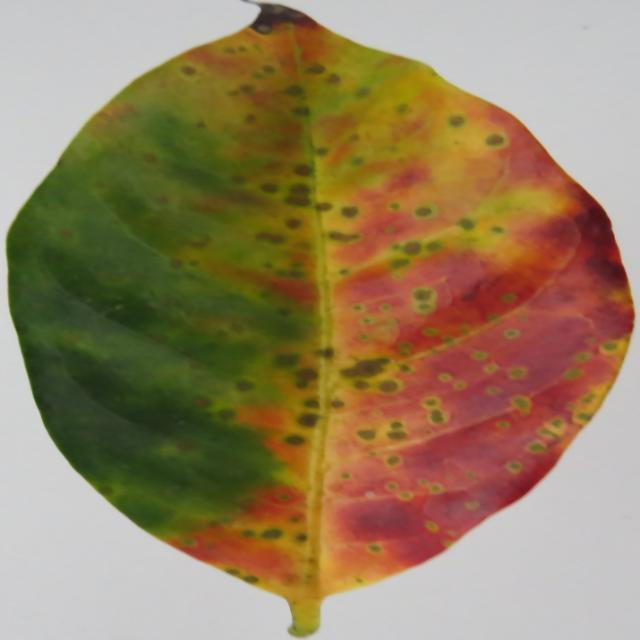DeficienciaNutricional-Fosforo: (9, 5, 631, 635)
